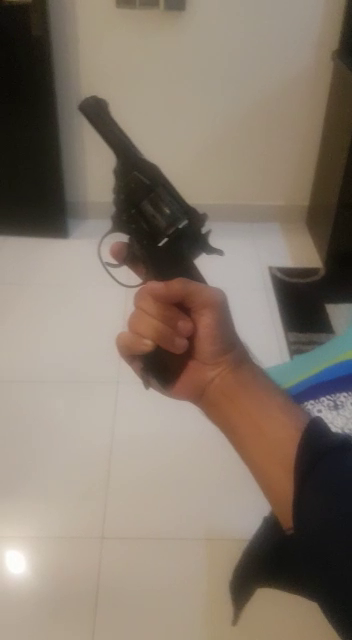handgun: (63, 71, 257, 414)
